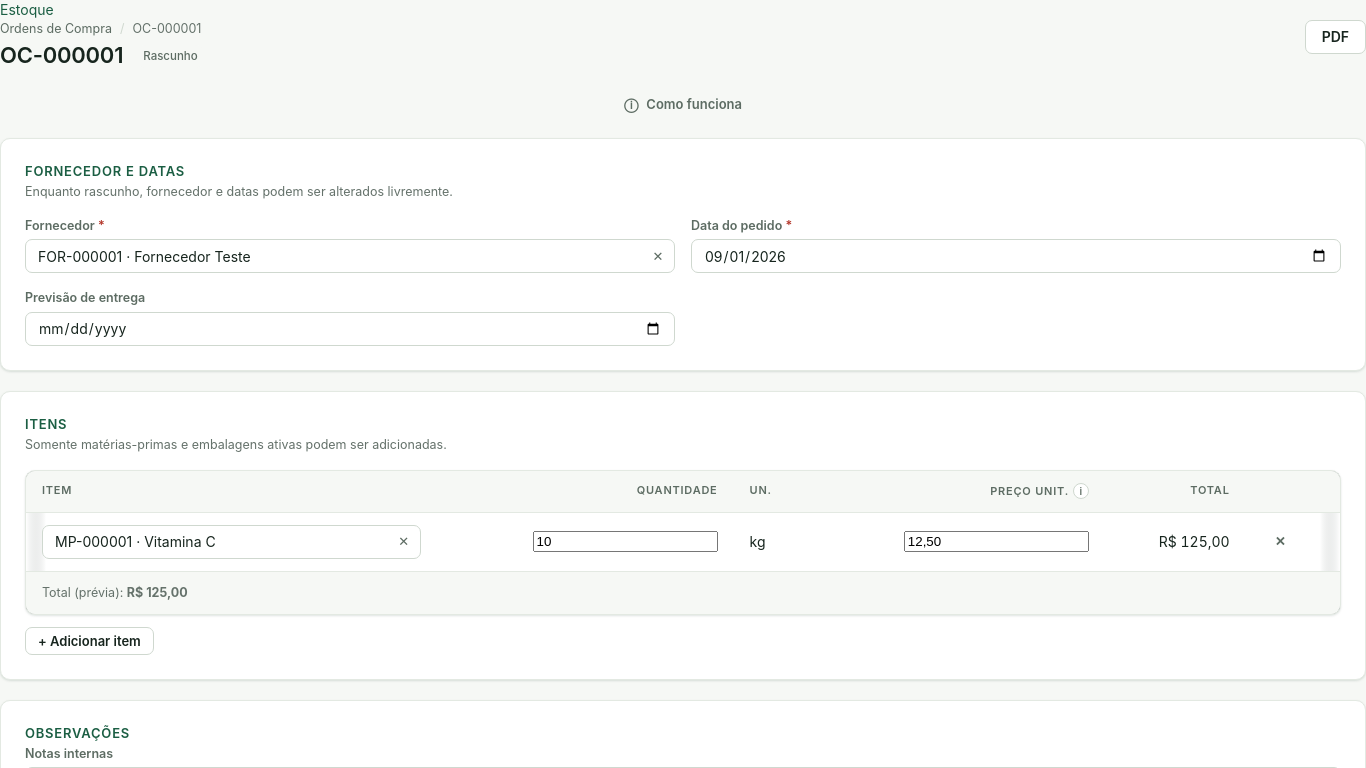
Test: OC gravada — guarda de alterações não salvas › alterar a quantidade de uma linha pergunta
Check: the heading "OC-000001" is shown, box [0,42,123,70]
Replace the text in the field named "Quantidade de MP-000001" with "12": (625, 542) [533,531,718,552]
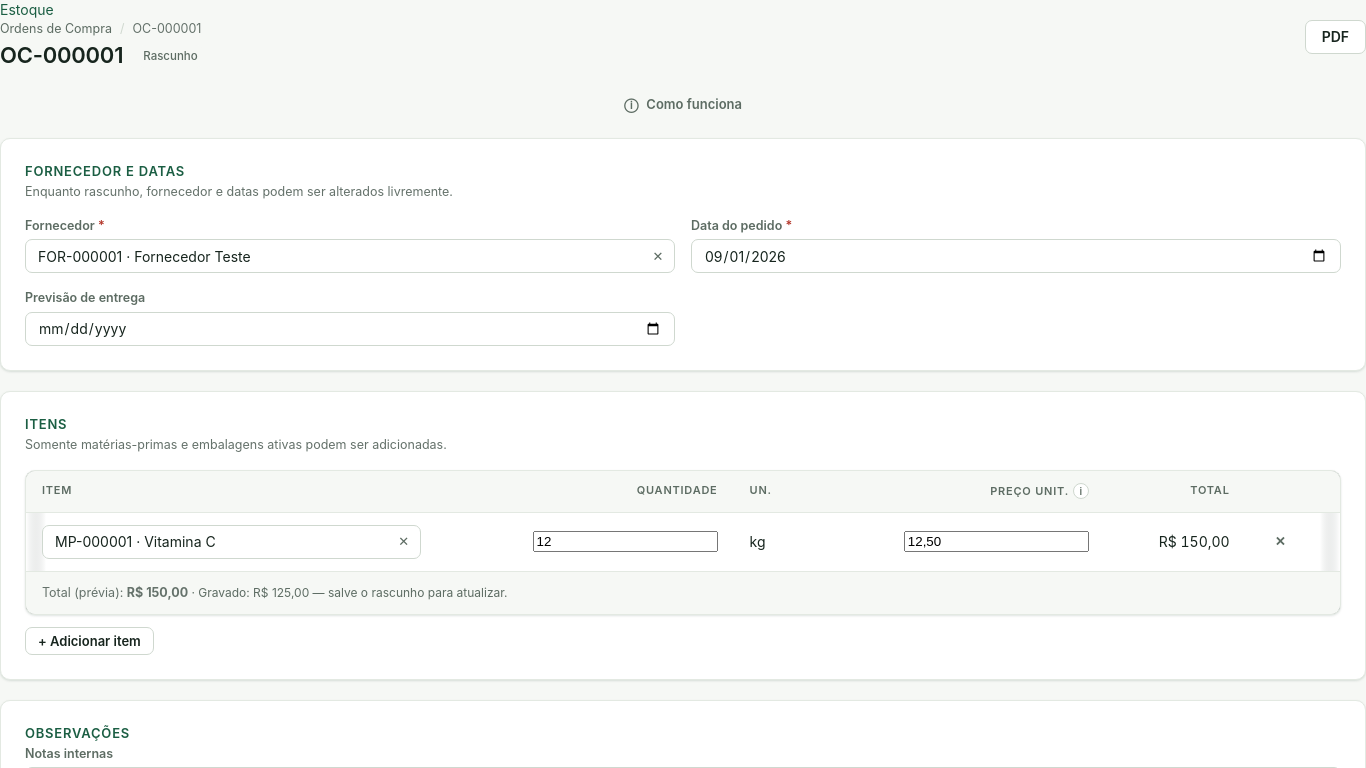
Click the link "Estoque": (27, 10) [0,1,54,18]
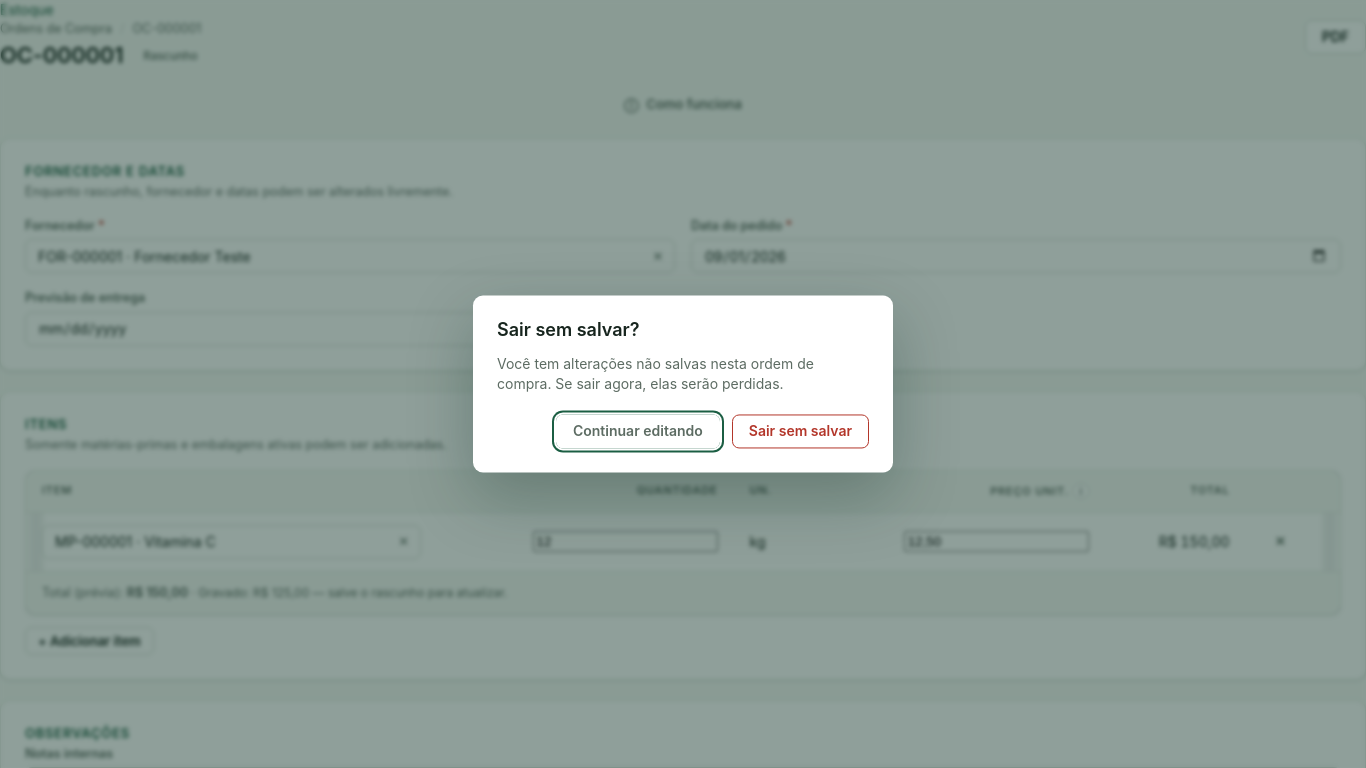
Check: the heading "Sair sem salvar?" is shown, box [497,320,640,340]
